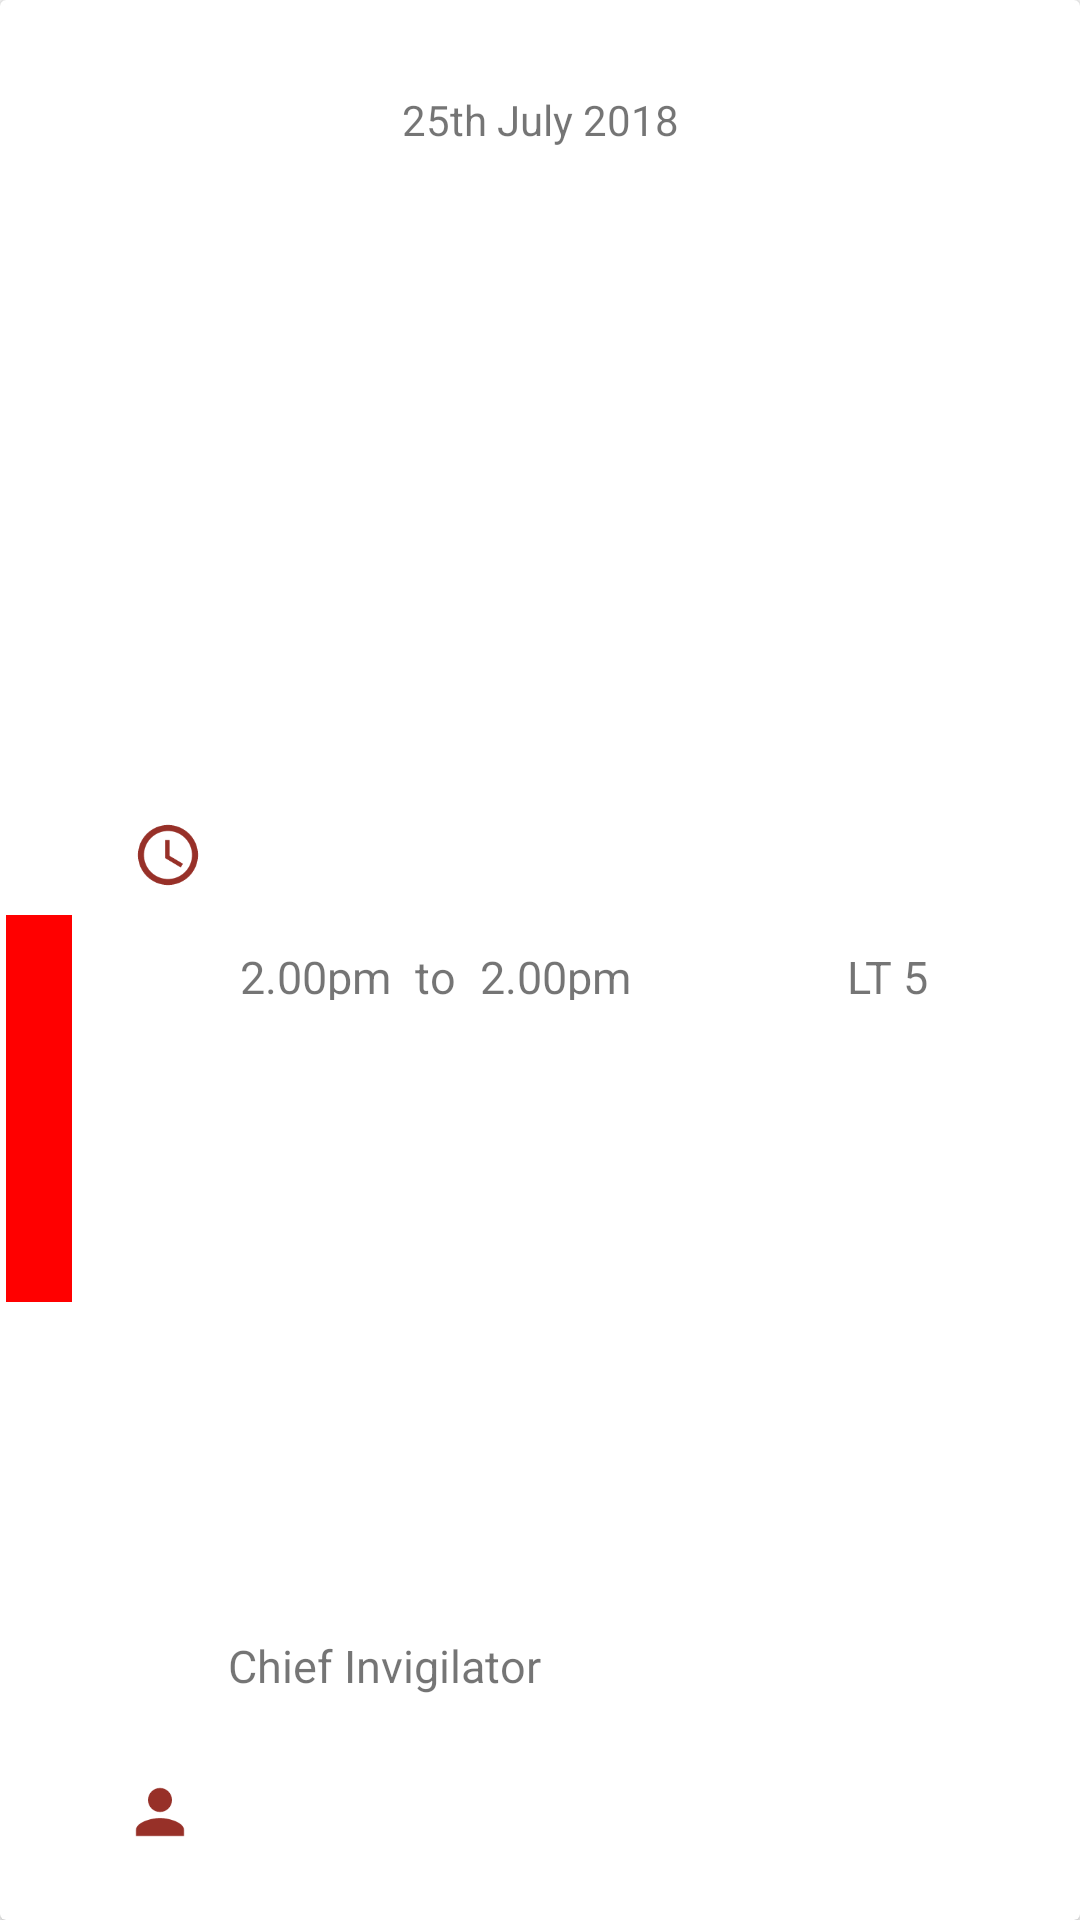

Screen size 1080x1920. Icon name, then its box in pixels as (x1, y1, x2, y2):
access time: (137, 824, 199, 886)
person: (135, 1787, 185, 1837)
